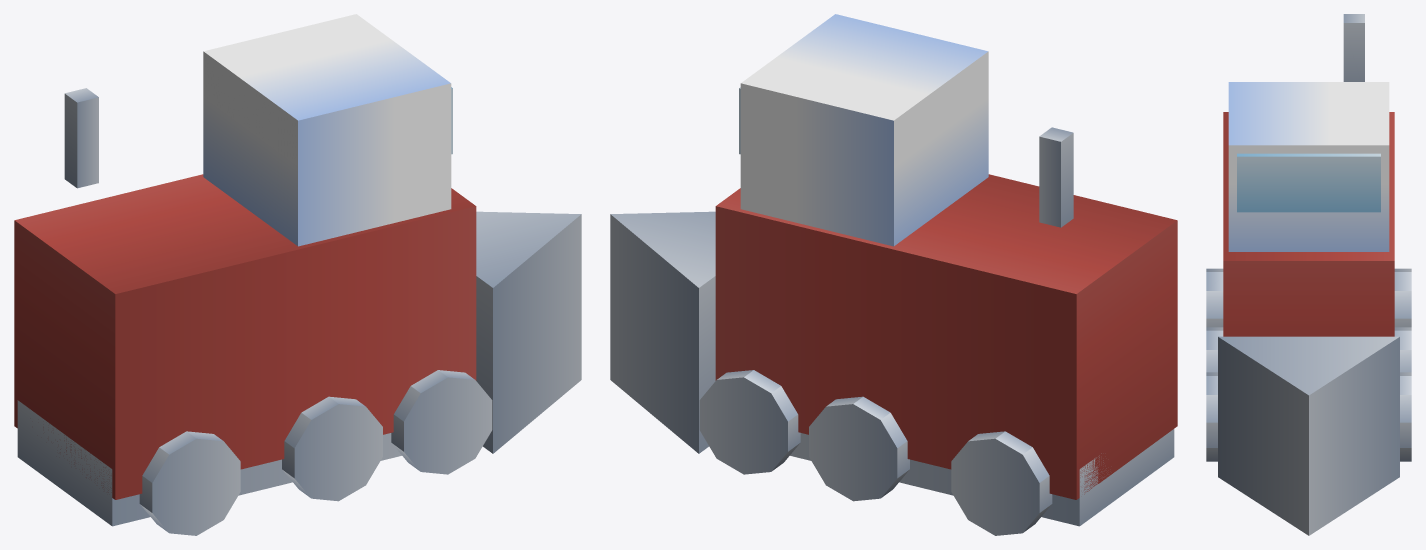
File: snowplough.fbx
3 renders of one model, left to right at view 1: azimuth 30°, elevation 25°; view 2: azimuth 150°, elevation 25°; view 3: azimuth 270°, elevation 25°, orthographic. The views are drawn at different scales.
Parts seen in each view (by area): view 1: snowplough; view 2: snowplough; view 3: snowplough.
Part boxes in pixels (bbox=[...]): snowplough: bbox=[14, 14, 581, 535]; snowplough: bbox=[610, 14, 1177, 535]; snowplough: bbox=[1206, 14, 1411, 535].
Bounding box in the file's own units: 2200 × 1560 × 894.
